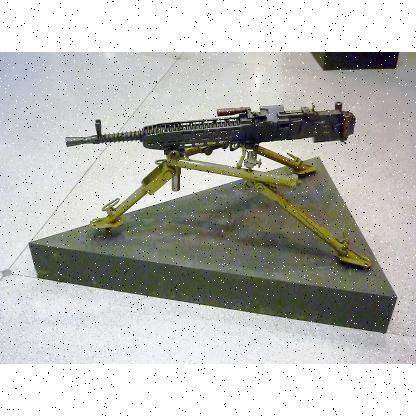gun: (65, 101, 369, 267)
